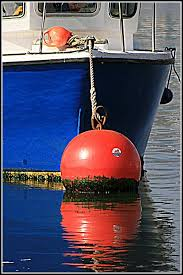buoy: (60, 129, 141, 191), (42, 27, 72, 45)
